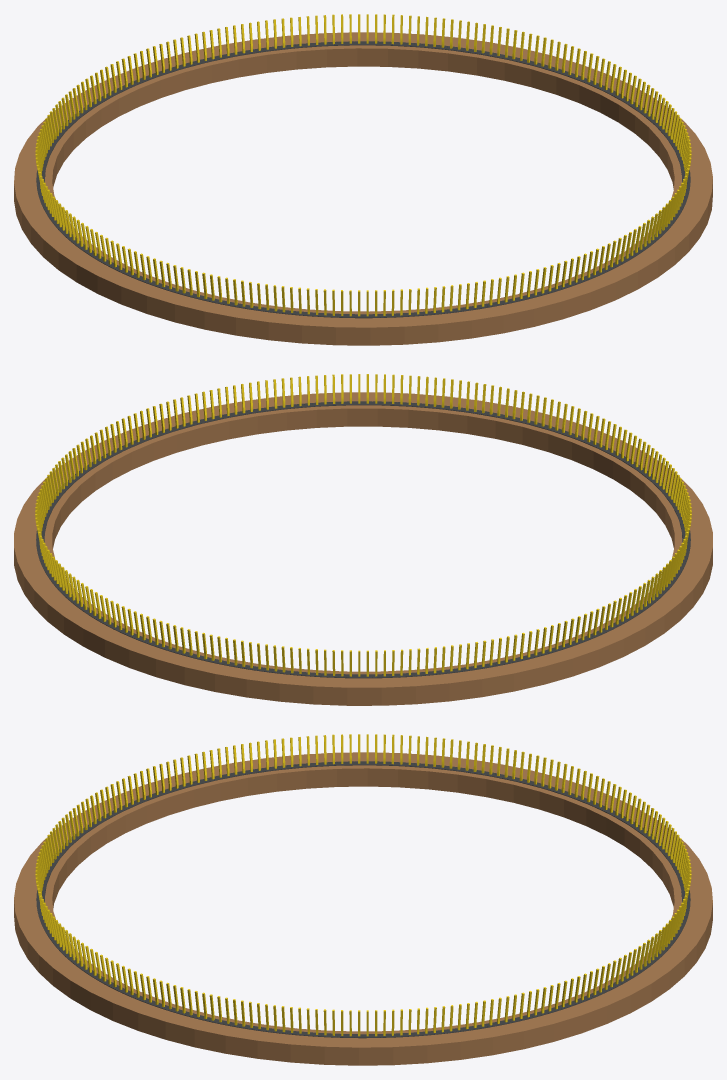
File: tinker.obj
The picture shows the model from 3 angles, top to bottom: view 1: azimuth 30°, elevation 25°; view 2: azimuth 150°, elevation 25°; view 3: azimuth 270°, elevation 25°; orthographic projection.
Parts seen in each view (by area): view 1: group_0_11107152, group_0_16768282, group_0_4540489; view 2: group_0_11107152, group_0_16768282, group_0_4540489; view 3: group_0_11107152, group_0_16768282, group_0_4540489.
Part boxes in pixels (bbox=[...]): group_0_11107152: bbox=[14, 32, 712, 345]; group_0_16768282: bbox=[35, 14, 691, 316]; group_0_4540489: bbox=[36, 41, 690, 318]; group_0_11107152: bbox=[14, 392, 712, 705]; group_0_16768282: bbox=[35, 374, 691, 676]; group_0_4540489: bbox=[36, 401, 690, 678]; group_0_11107152: bbox=[14, 752, 712, 1065]; group_0_16768282: bbox=[35, 734, 691, 1036]; group_0_4540489: bbox=[36, 761, 690, 1038].
Bounding box in the file's own units: 210 × 15.09 × 210.
